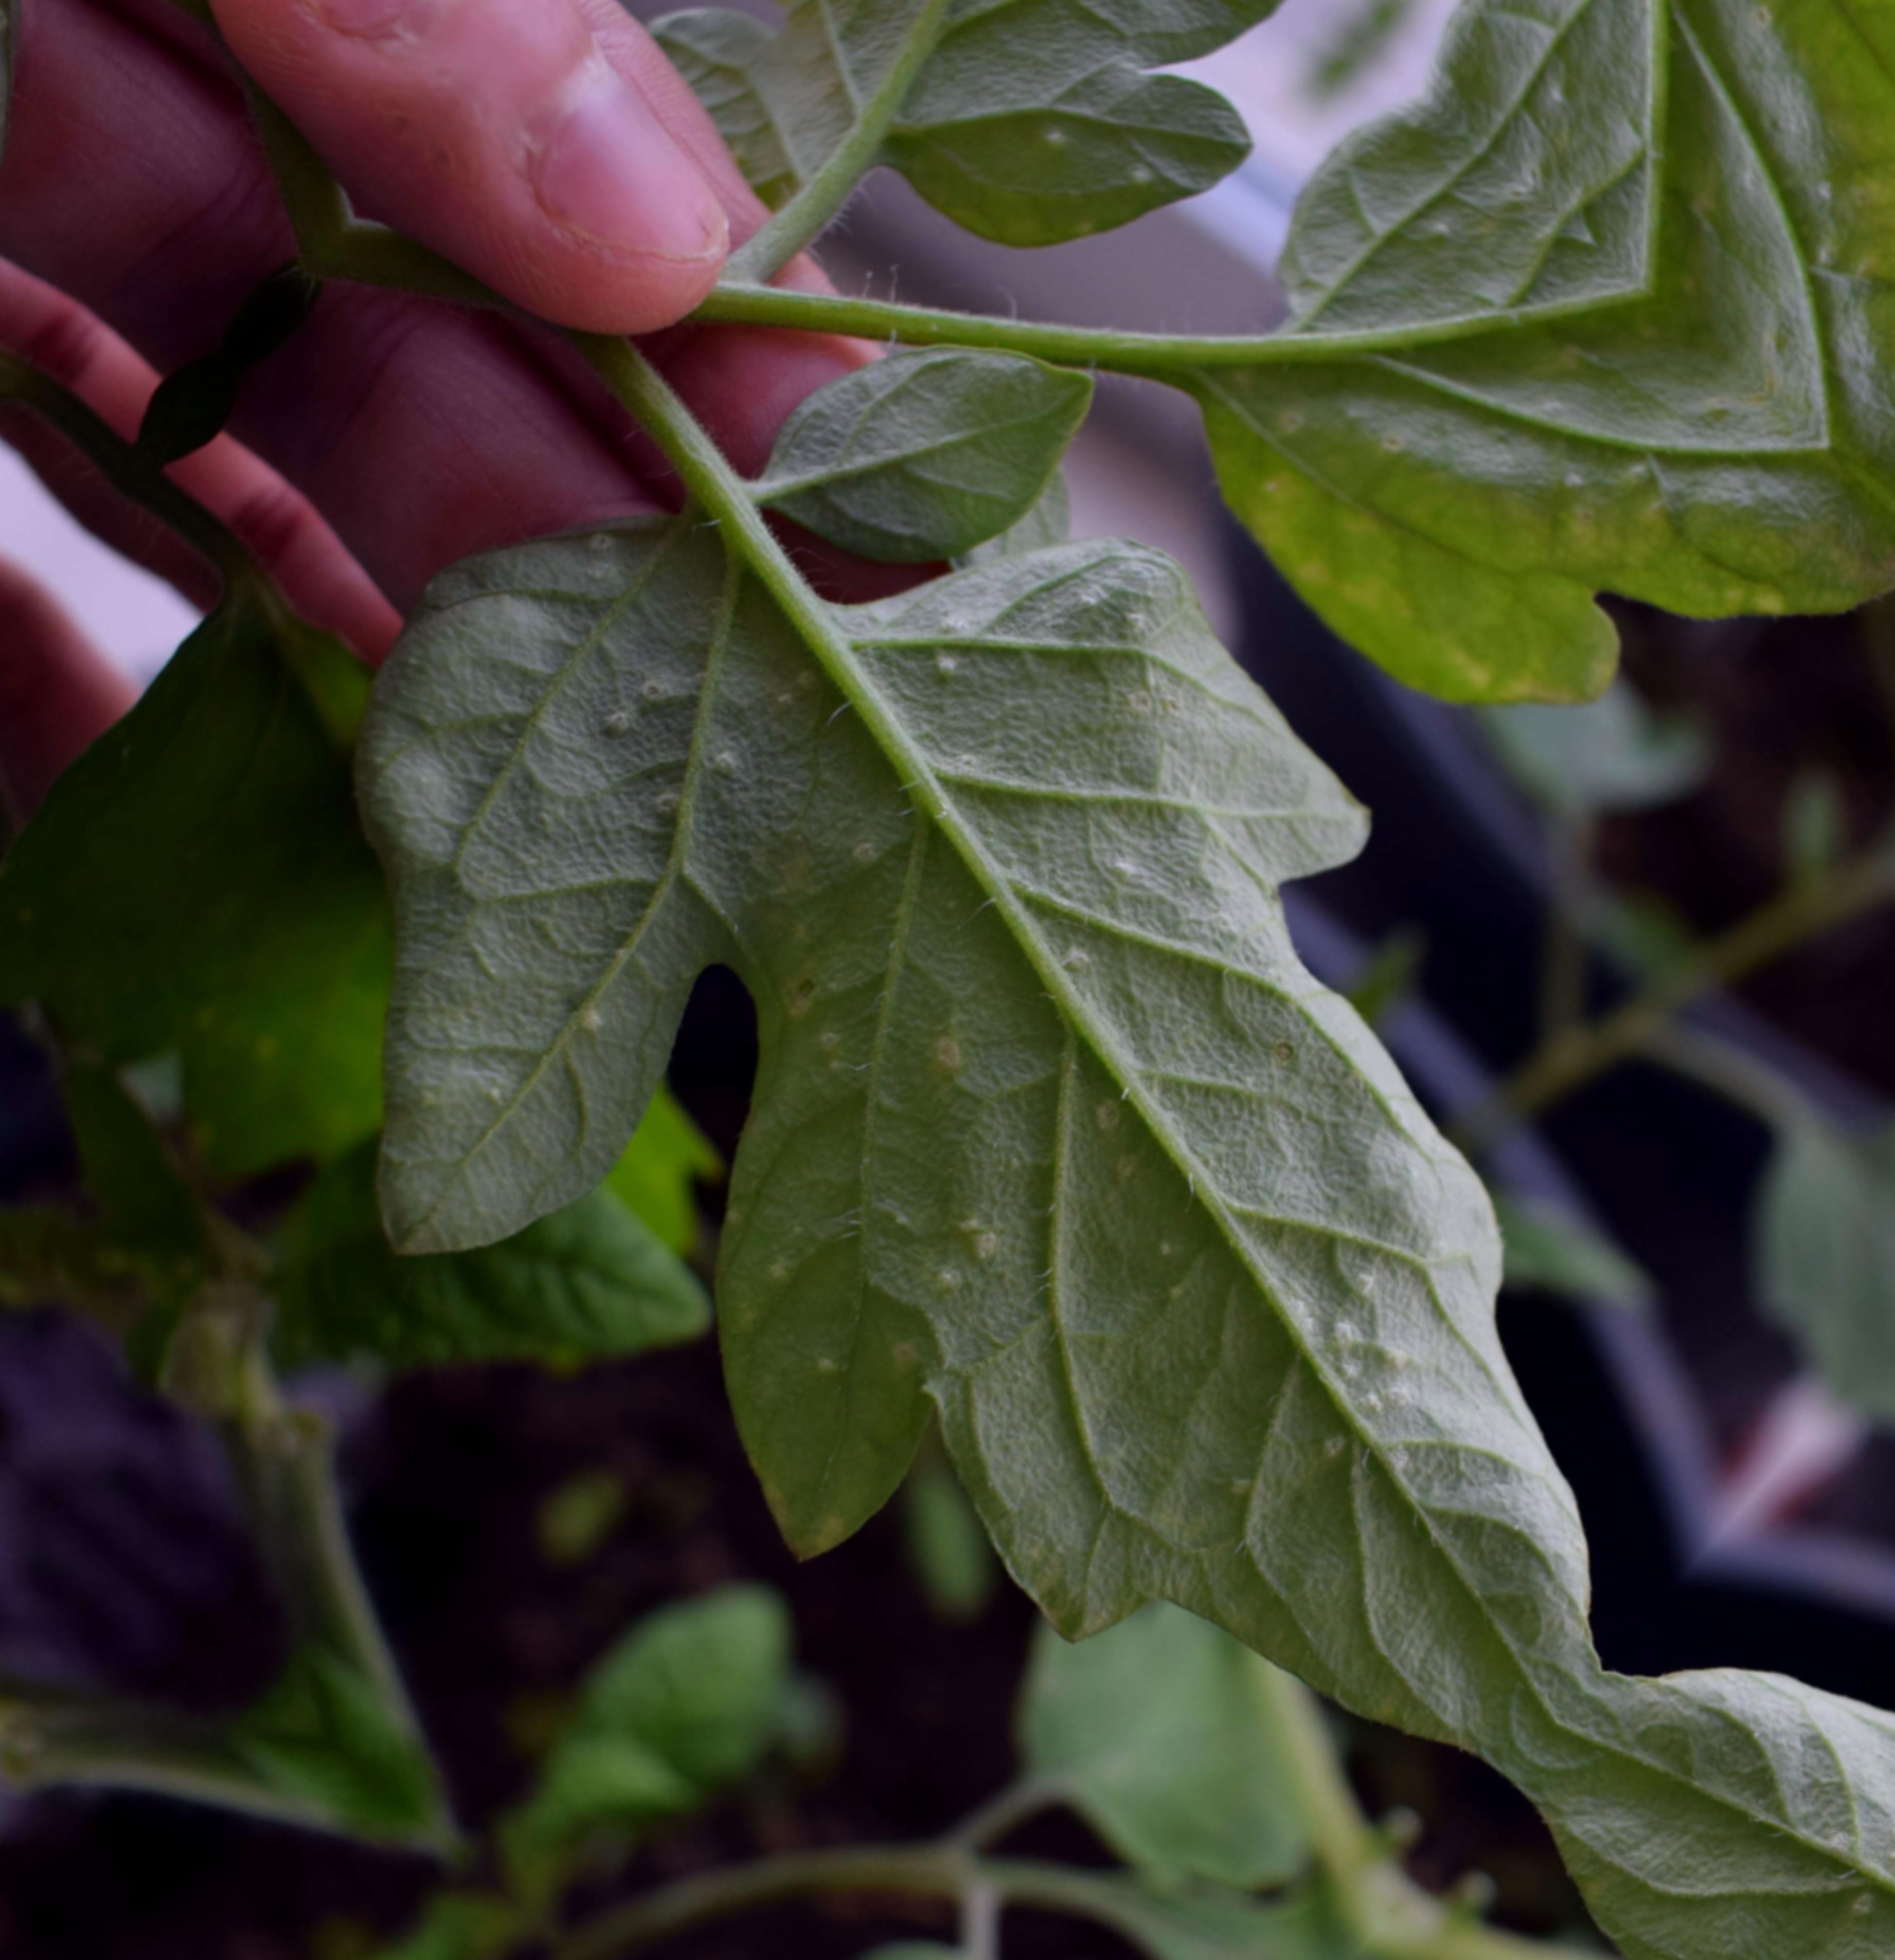Tomato mold leaf: (124, 245, 1895, 1960), (1087, 75, 1895, 952), (639, 0, 1370, 318), (705, 1844, 1214, 1960)
